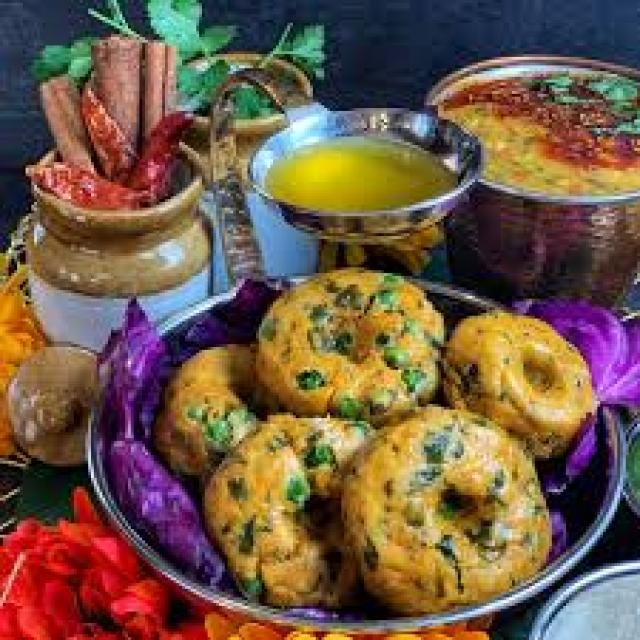MEDU VADA: (339, 408, 549, 617), (205, 418, 376, 601), (261, 265, 444, 417), (452, 306, 588, 451), (167, 351, 279, 465)
